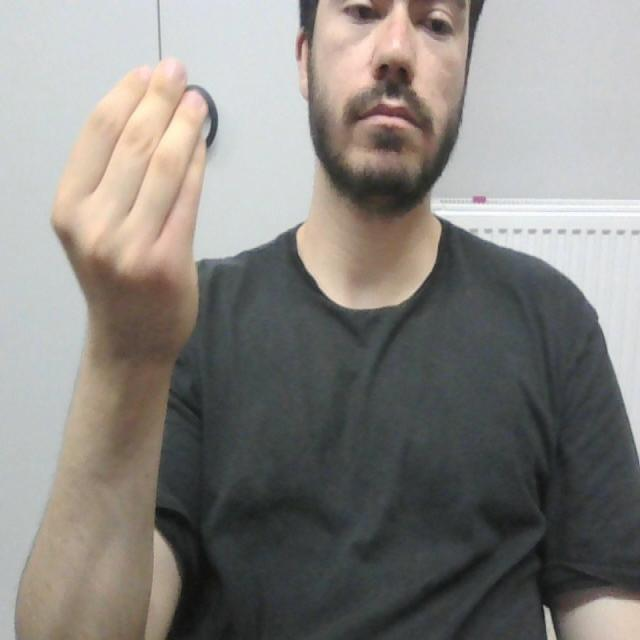iyi: (60, 63, 198, 269)
